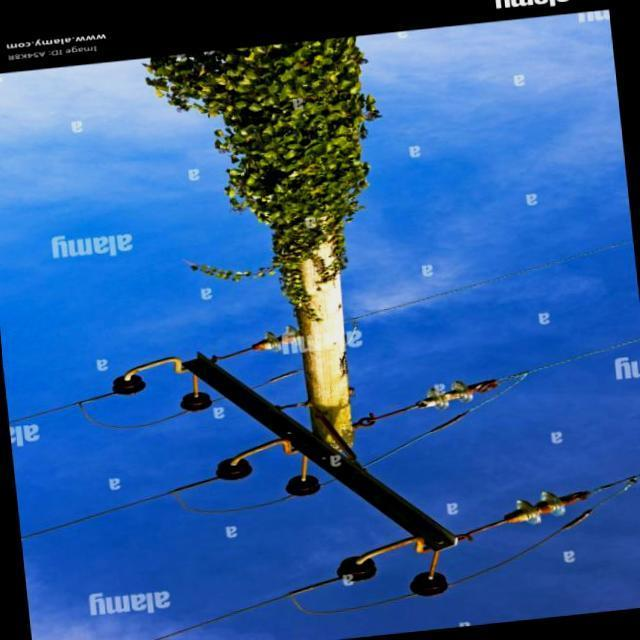critical vegetation: (168, 48, 426, 501)
